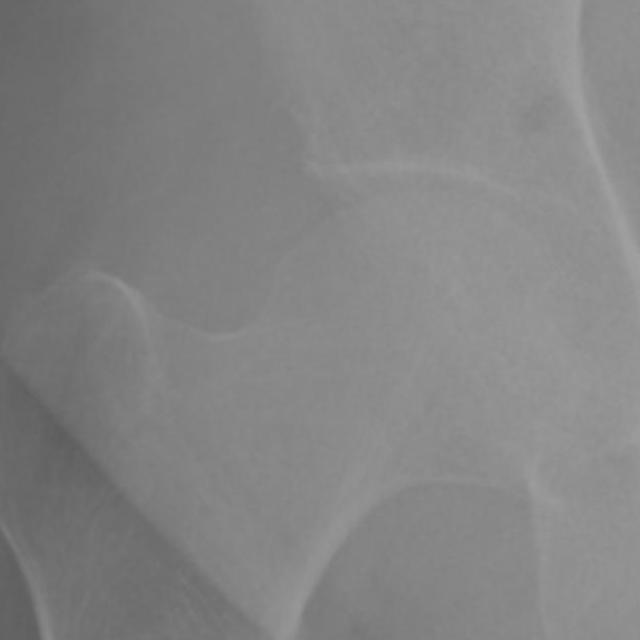Fitted_femural_head: (304, 193, 432, 304)
